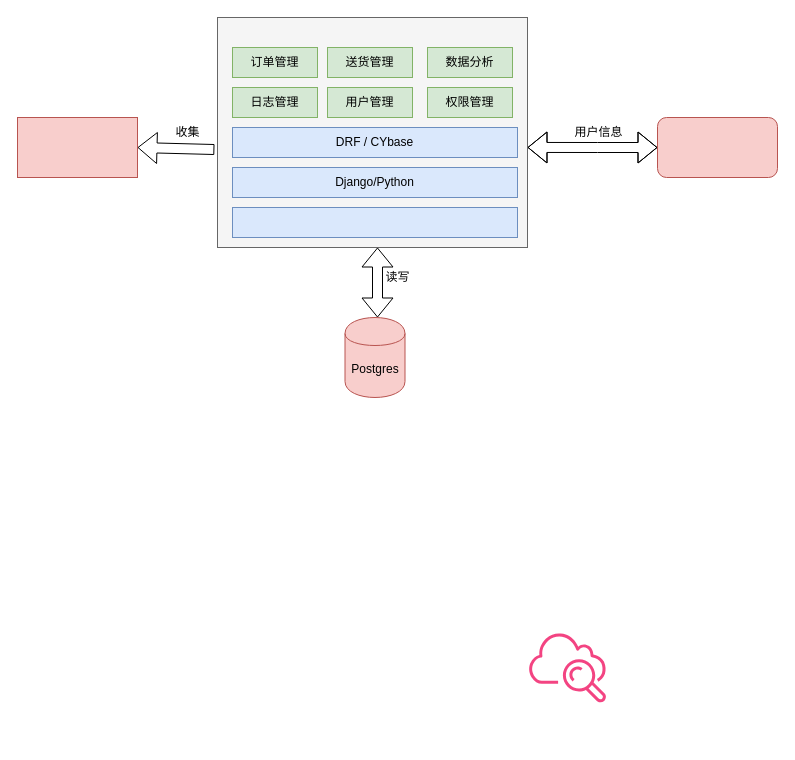
The diagram is 795 pixels wide and 760 high, and some of its shapes have lost their labels. Here are the shapes that lost their labels. From the top down, the centre of each, then its label:
(x=77, y=147): 创源 ELK 日志平台
(x=717, y=147): 微信开放平台
(x=375, y=222): Ubuntu
(x=567, y=667): Amazon CloudWatch Logs
